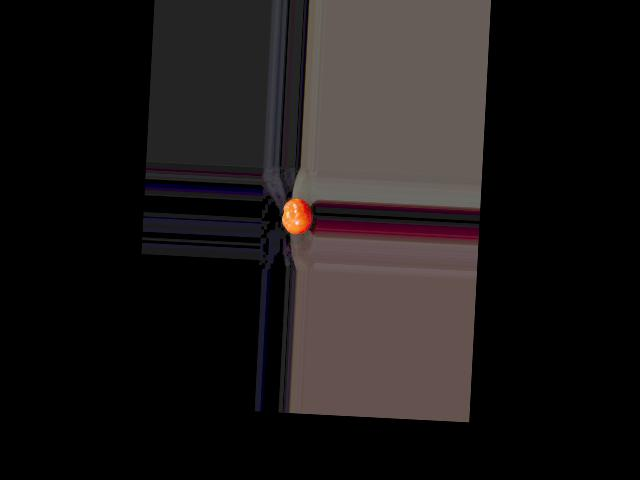tomato: (281, 197, 314, 235)
